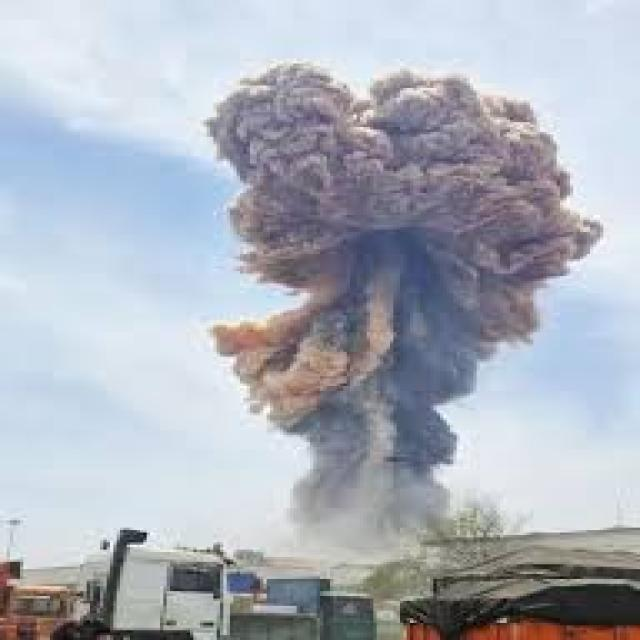explosion: (184, 56, 618, 586)
